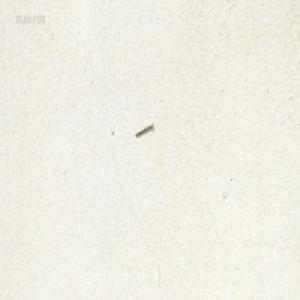Bolt: (134, 121, 153, 137)
